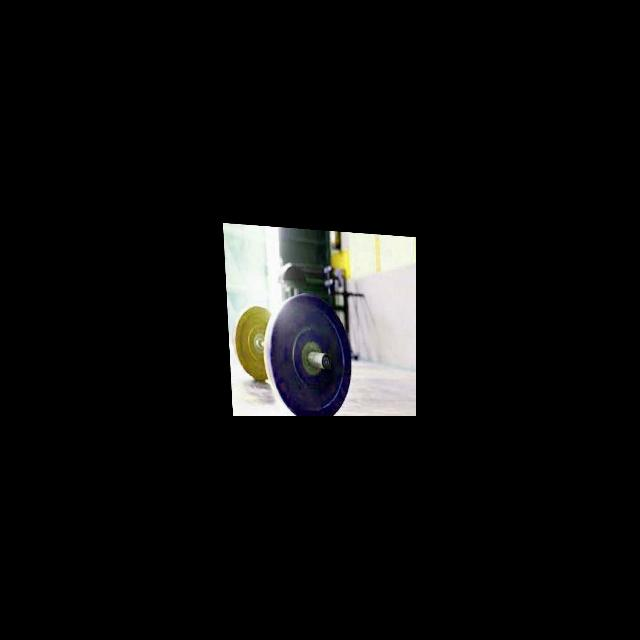barbell: (260, 287, 355, 415)
